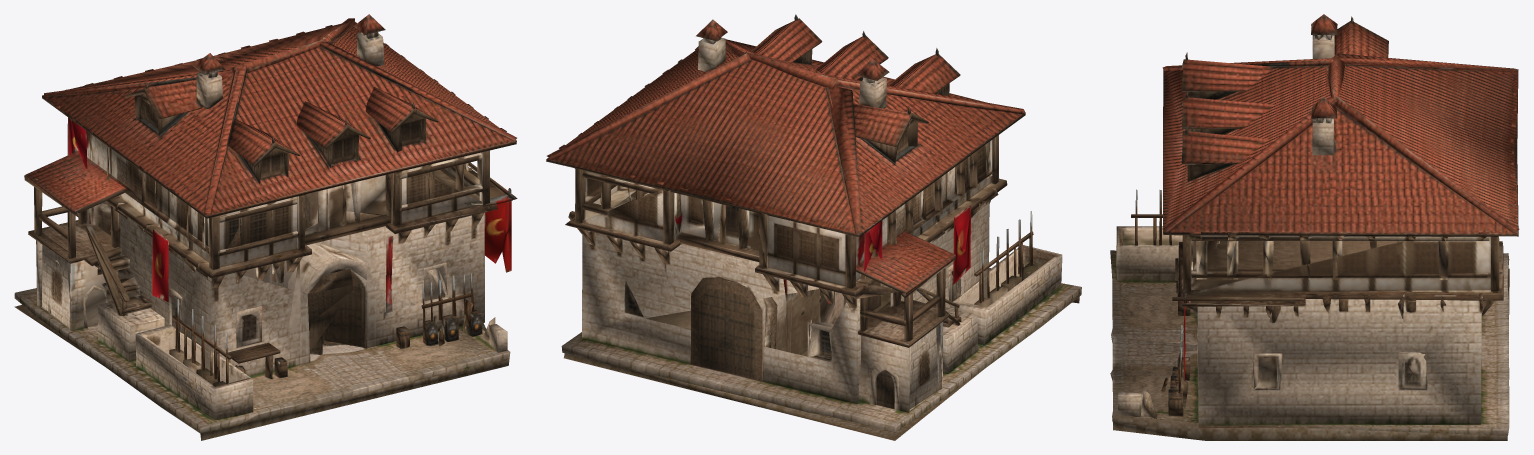
The model's file is Meshy_AI_model.glb.
The picture shows the model from 3 angles, left to right: view 1: azimuth 30°, elevation 25°; view 2: azimuth 150°, elevation 25°; view 3: azimuth 270°, elevation 25°; orthographic projection. The views are drawn at different scales.
Size of the model in its own units: 1 by 0.8228 by 0.955.
1 material, 1 textured.
